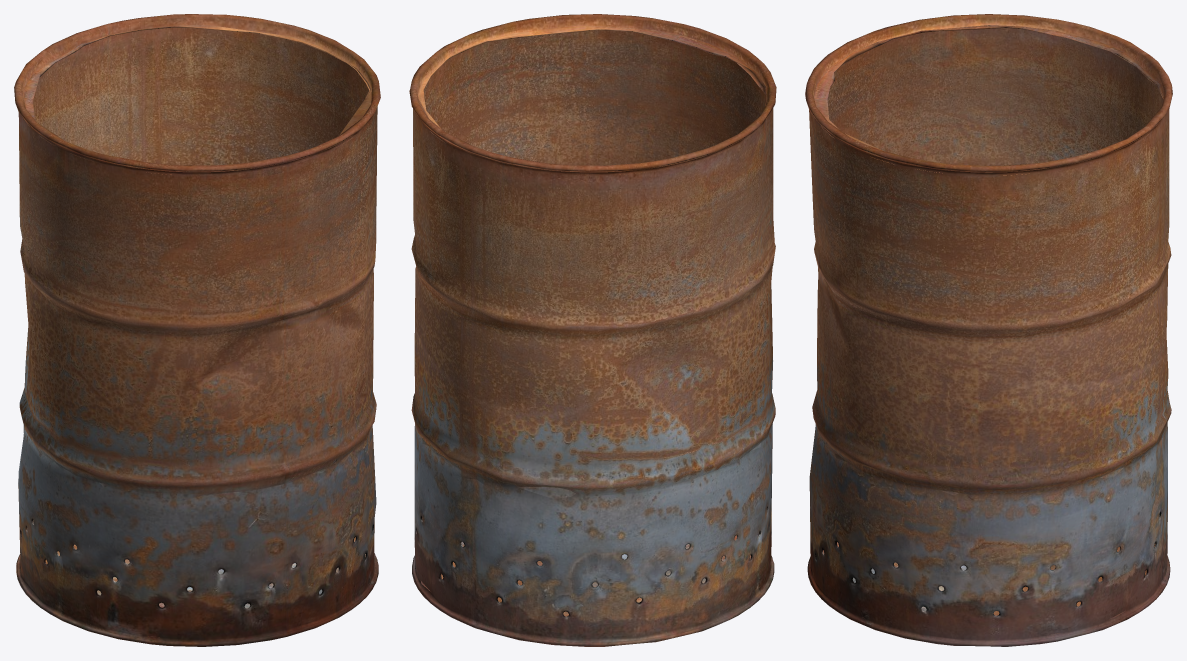
Rendered from deploy_furnace.glb.
3 views of the same model, side by side, from view 1: azimuth 30°, elevation 25°; view 2: azimuth 150°, elevation 25°; view 3: azimuth 270°, elevation 25° (orthographic).
Parts seen in each view (by area): view 1: barrel_stove; view 2: barrel_stove; view 3: barrel_stove.
Boxes of the visible parts, x1,y1,x2,y2 form: barrel_stove: [14, 14, 380, 646]; barrel_stove: [409, 14, 776, 646]; barrel_stove: [805, 14, 1172, 646].
Bounding box in the file's own units: 1.24 × 1.8 × 1.25.
1 material, 1 textured.
